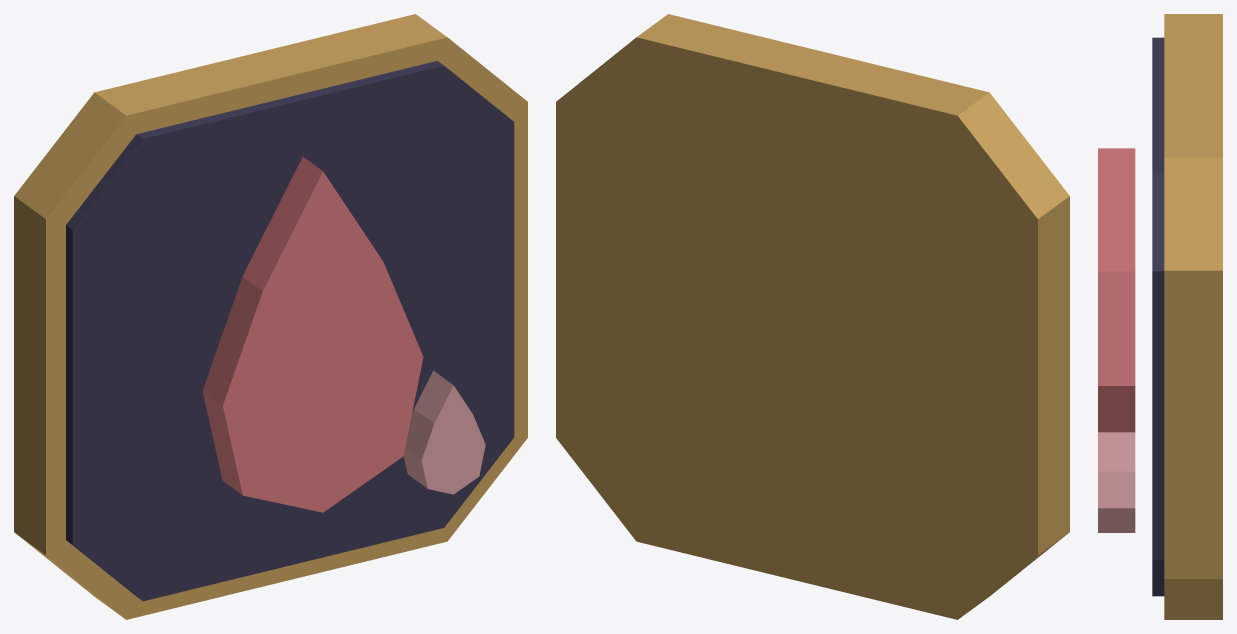
Rendered from bleed.fbx.
3 renders of one model, left to right at view 1: azimuth 30°, elevation 25°; view 2: azimuth 150°, elevation 25°; view 3: azimuth 270°, elevation 25°, orthographic. The views are drawn at different scales.
Parts seen in each view (by area): view 1: bleed; view 2: bleed; view 3: bleed.
Boxes of the visible parts, x1,y1,x2,y2 form: bleed: (14,14,527,619); bleed: (556,14,1069,619); bleed: (1098,14,1222,619).
Size of the model in its own units: 0.96 by 0.96 by 0.235.
